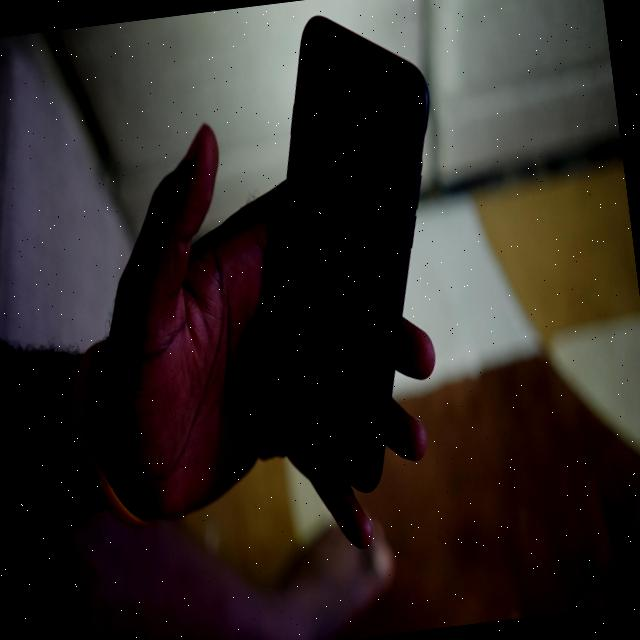Phone: (216, 0, 478, 504)
